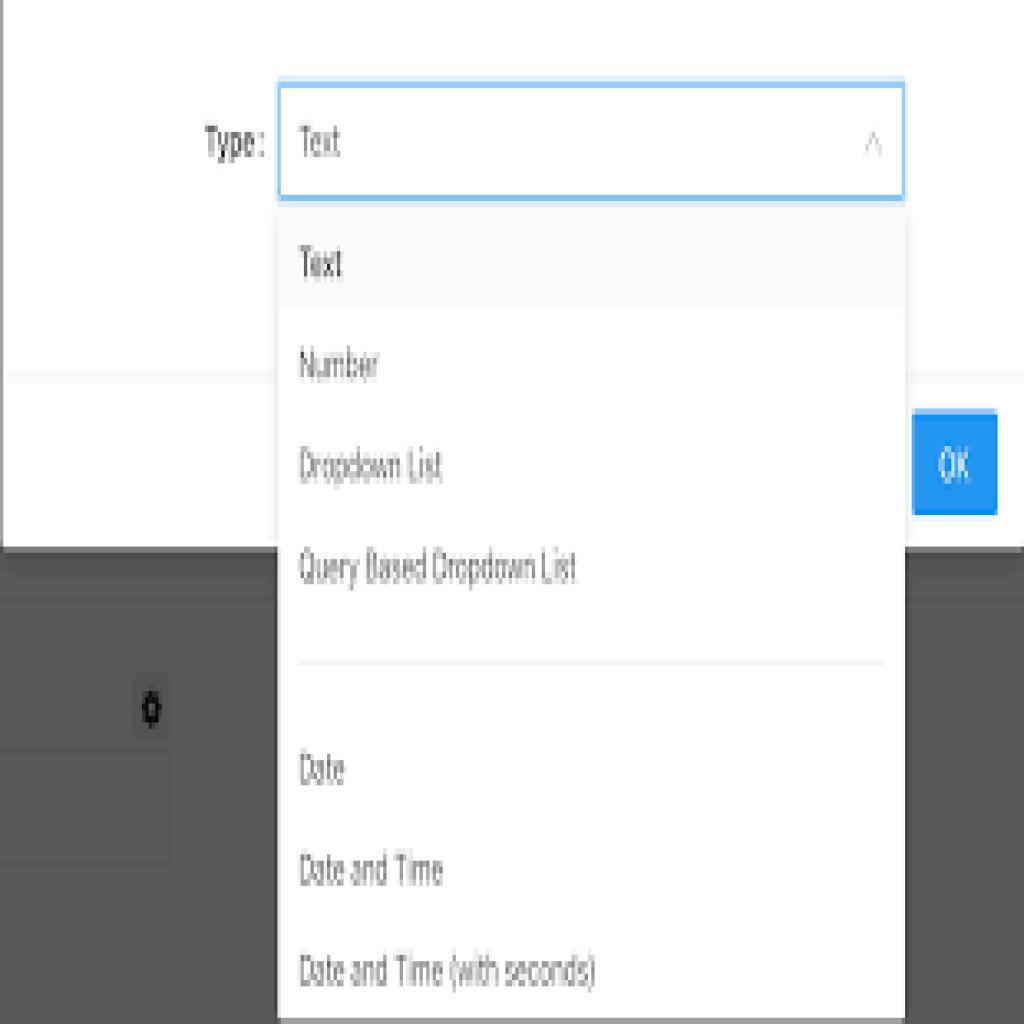button: (915, 411, 996, 516)
dropdown: (278, 80, 906, 199)
icon: (135, 677, 172, 742)
label: (295, 542, 585, 596), (295, 950, 598, 1001), (297, 441, 446, 492), (295, 846, 447, 893), (291, 340, 386, 388), (201, 118, 271, 163), (291, 747, 350, 787), (297, 240, 348, 286)
